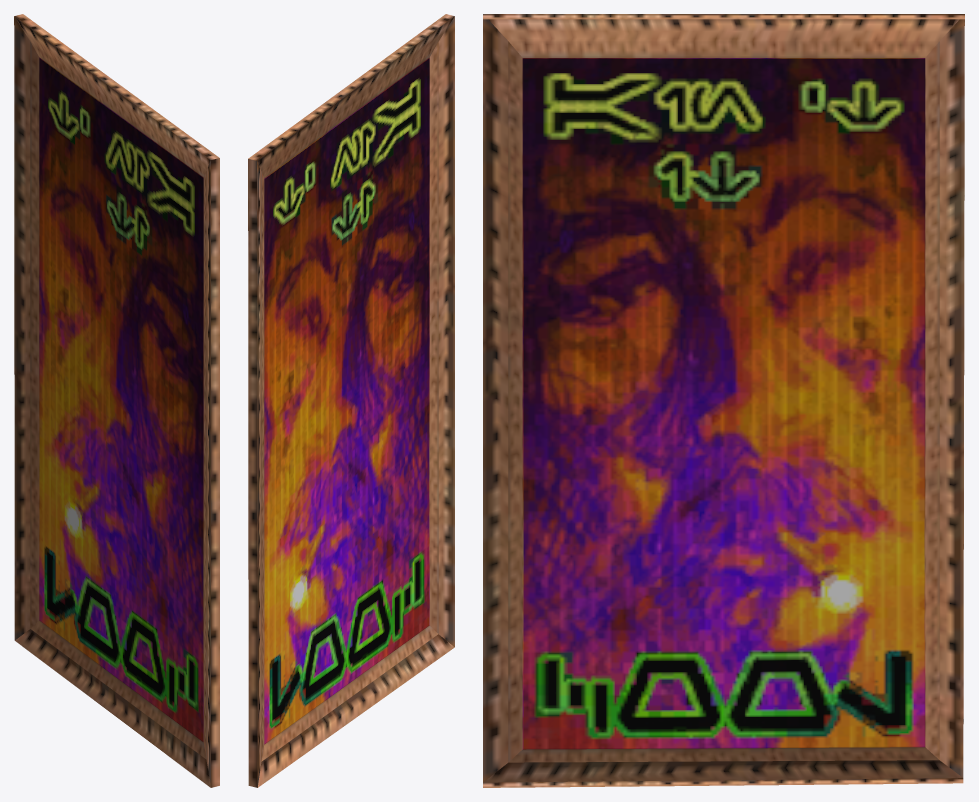
The model's file is frn_all_painting_smoking_ad.fbx.
The picture shows the model from 3 angles, left to right: view 1: azimuth 30°, elevation 25°; view 2: azimuth 150°, elevation 25°; view 3: azimuth 270°, elevation 25°; orthographic projection. The views are drawn at different scales.
Visible parts, largest first — view 1: mesh_node; view 2: mesh_node; view 3: mesh_node.
Part boxes in pixels (x1,y1,x2,y2): mesh_node: (14,14,219,787); mesh_node: (248,14,454,787); mesh_node: (483,14,964,787).
Size of the model in its own units: 0.0522 by 3.49 by 1.98.
